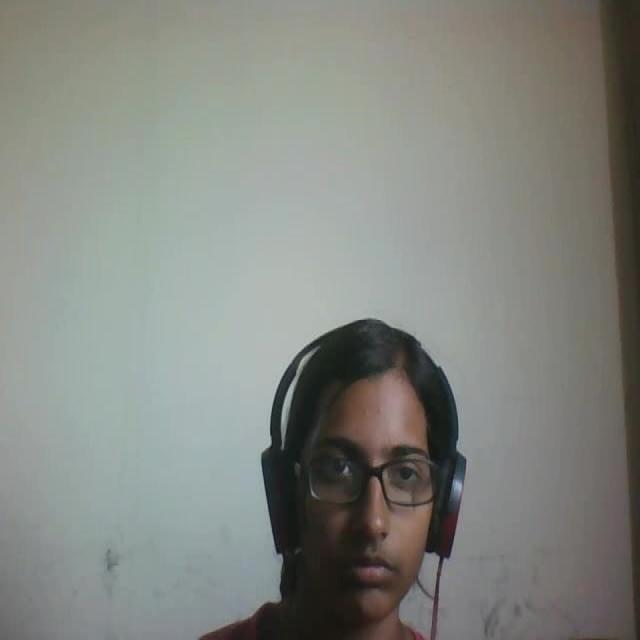Engaged: (241, 290, 517, 640)
